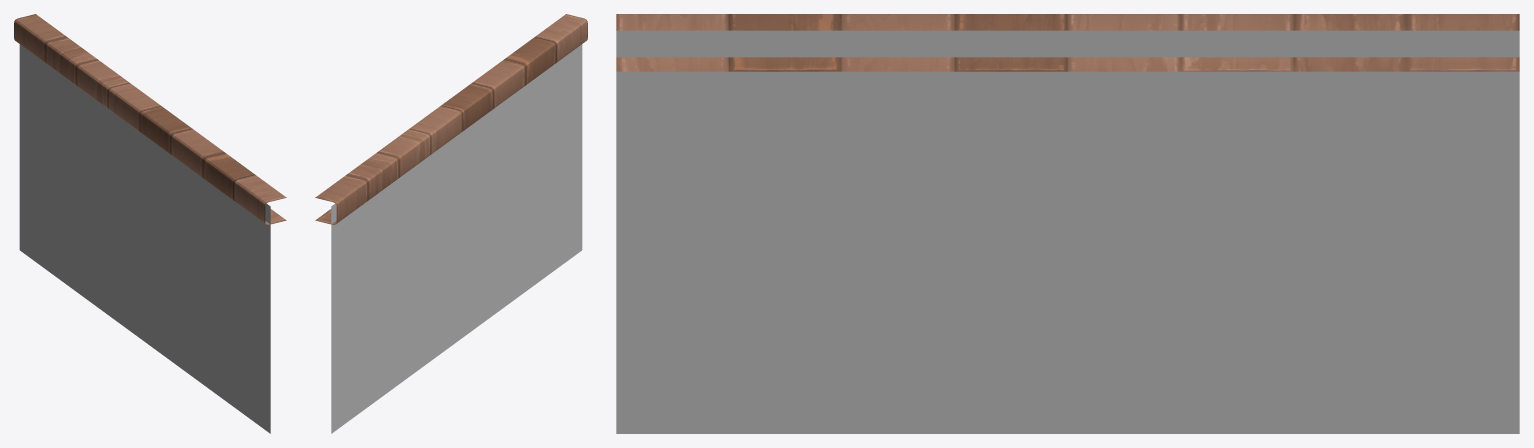
The model's file is SM_wooden_panel_01.fbx.
The picture shows the model from 3 angles, left to right: view 1: azimuth 30°, elevation 25°; view 2: azimuth 150°, elevation 25°; view 3: azimuth 270°, elevation 25°; orthographic projection. The views are drawn at different scales.
Visible parts, largest first — view 1: SM_wooden_panel_01_LOD0; view 2: SM_wooden_panel_01_LOD0; view 3: SM_wooden_panel_01_LOD0.
Boxes of the visible parts, x1,y1,x2,y2 form: SM_wooden_panel_01_LOD0: (14,14,286,433); SM_wooden_panel_01_LOD0: (315,14,587,433); SM_wooden_panel_01_LOD0: (616,14,1519,433).
Bounding box in the file's own units: 20.02 × 400 × 204.
